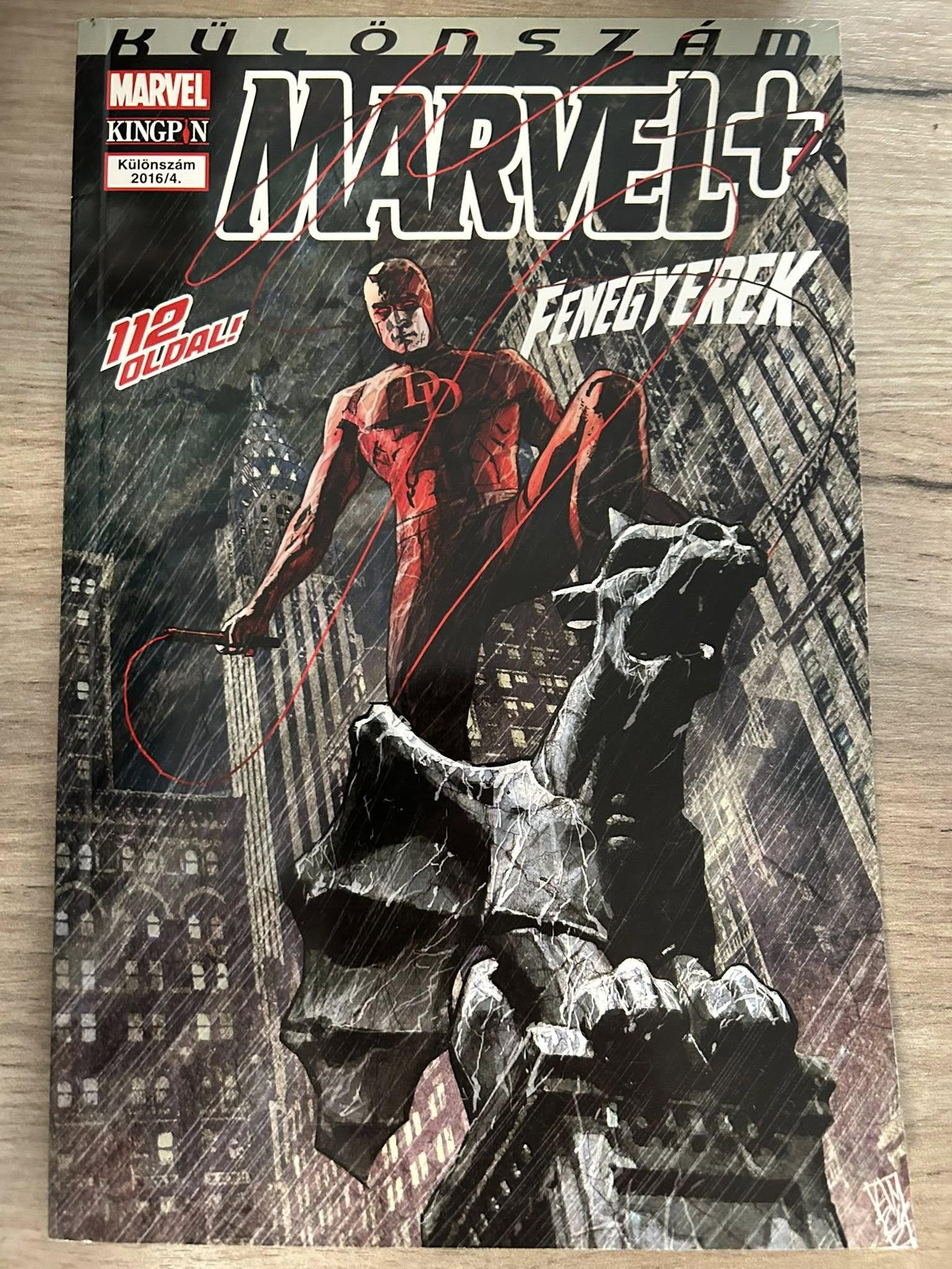comic: (50, 18, 914, 1247)
